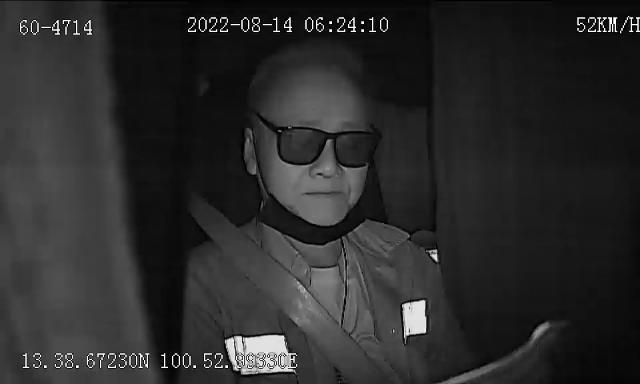Seatbelt: (213, 211, 395, 384)
